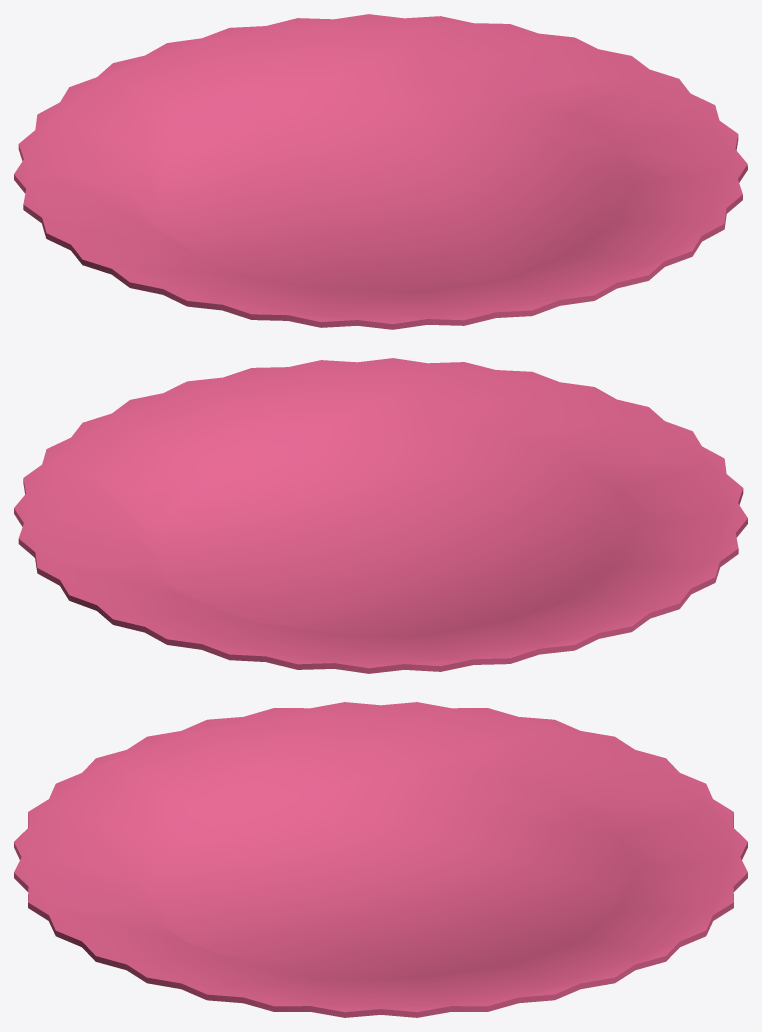
File: Tableware_V1_1.fbx
The picture shows the model from 3 angles, top to bottom: view 1: azimuth 30°, elevation 25°; view 2: azimuth 150°, elevation 25°; view 3: azimuth 270°, elevation 25°; orthographic projection.
Visible parts, largest first — view 1: SM_Tableware_V1_1; view 2: SM_Tableware_V1_1; view 3: SM_Tableware_V1_1.
Part boxes in pixels (x1,y1,x2,y2): SM_Tableware_V1_1: [14, 14, 747, 329]; SM_Tableware_V1_1: [14, 358, 747, 673]; SM_Tableware_V1_1: [14, 702, 747, 1017].
Bounding box in the file's own units: 23.45 × 1.65 × 23.44.
